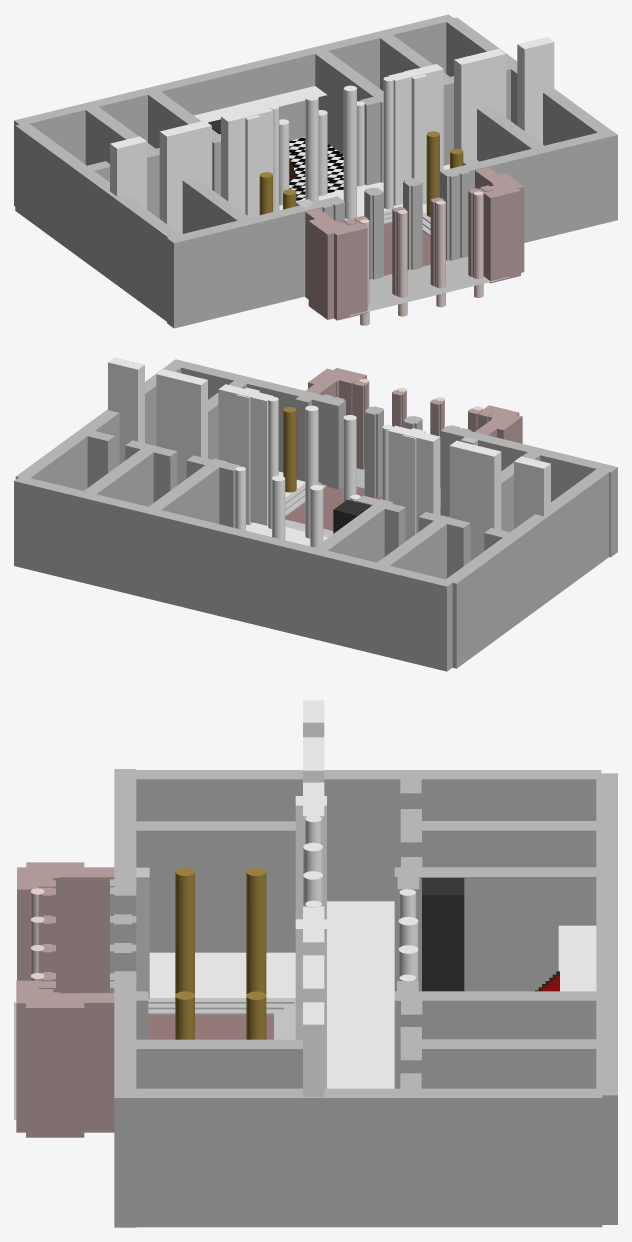
The model's file is Floor1Prot.fbx.
The picture shows the model from 3 angles, top to bottom: view 1: azimuth 30°, elevation 25°; view 2: azimuth 150°, elevation 25°; view 3: azimuth 270°, elevation 25°; orthographic projection. The views are drawn at different scales.
Visible parts, largest first — view 1: WallL, WallBack, WallL_4, WallR, WallR_4, WallL_11, WallR_7, WallR_6, WallR_15, WallL_5, WallR_13, WallL_15 (+42 smaller); view 2: WallBack, WallL, WallR, WallL_11, WallL_4, WallR_7, WallR_4, WallR_6, WallL_5, WallR_9, WallR_13, WallR_14 (+29 smaller); view 3: WallR_4, WallL, WallL_12, WallL_10, Floor__11_, WallR_14, WallBack, WallR_13, WallR_5, WallL_14, WallR, Floor__3_ (+32 smaller).
Part boxes in pixels (left/top/right/bottom): WallL: left=15, top=123, right=183, bottom=321; WallBack: left=14, top=14, right=454, bottom=206; WallL_4: left=167, top=196, right=344, bottom=328; WallR: left=440, top=130, right=617, bottom=260; WallR_4: left=445, top=17, right=610, bottom=145; WallL_11: left=159, top=120, right=211, bottom=234; WallR_7: left=454, top=49, right=506, bottom=161; WallR_6: left=388, top=64, right=443, bottom=205; WallR_15: left=480, top=183, right=520, bottom=283; WallL_5: left=221, top=105, right=273, bottom=213; WallR_13: left=313, top=49, right=383, bottom=182; WallL_15: left=325, top=220, right=367, bottom=320; WallBack: left=14, top=477, right=453, bottom=671; WallL: left=446, top=467, right=611, bottom=668; WallR: left=168, top=359, right=345, bottom=489; WallL_11: left=449, top=440, right=501, bottom=560; WallL_4: left=440, top=425, right=617, bottom=557; WallR_7: left=156, top=369, right=207, bottom=485; WallR_4: left=15, top=363, right=181, bottom=490; WallR_6: left=218, top=384, right=273, bottom=525; WallL_5: left=388, top=425, right=440, bottom=533; WallR_9: left=108, top=357, right=144, bottom=464; WallR_13: left=147, top=458, right=226, bottom=523; WallR_14: left=78, top=445, right=158, bottom=506; WallR_4: left=129, top=1088, right=602, bottom=1227; WallL: left=128, top=770, right=601, bottom=901; WallL_12: left=126, top=821, right=295, bottom=952; WallL_10: left=394, top=867, right=604, bottom=991; Floor__11_: left=327, top=901, right=394, bottom=1088; WallR_14: left=404, top=1039, right=614, bottom=1088; WallBack: left=596, top=773, right=617, bottom=1224; WallR_13: left=394, top=991, right=604, bottom=1088; WallR_5: left=126, top=1039, right=302, bottom=1088; WallL_14: left=404, top=821, right=599, bottom=867; WallR: left=114, top=971, right=136, bottom=1227; Floor__3_: left=149, top=952, right=295, bottom=997.
Size of the model in its own units: 7671 by 2485 by 5950.
